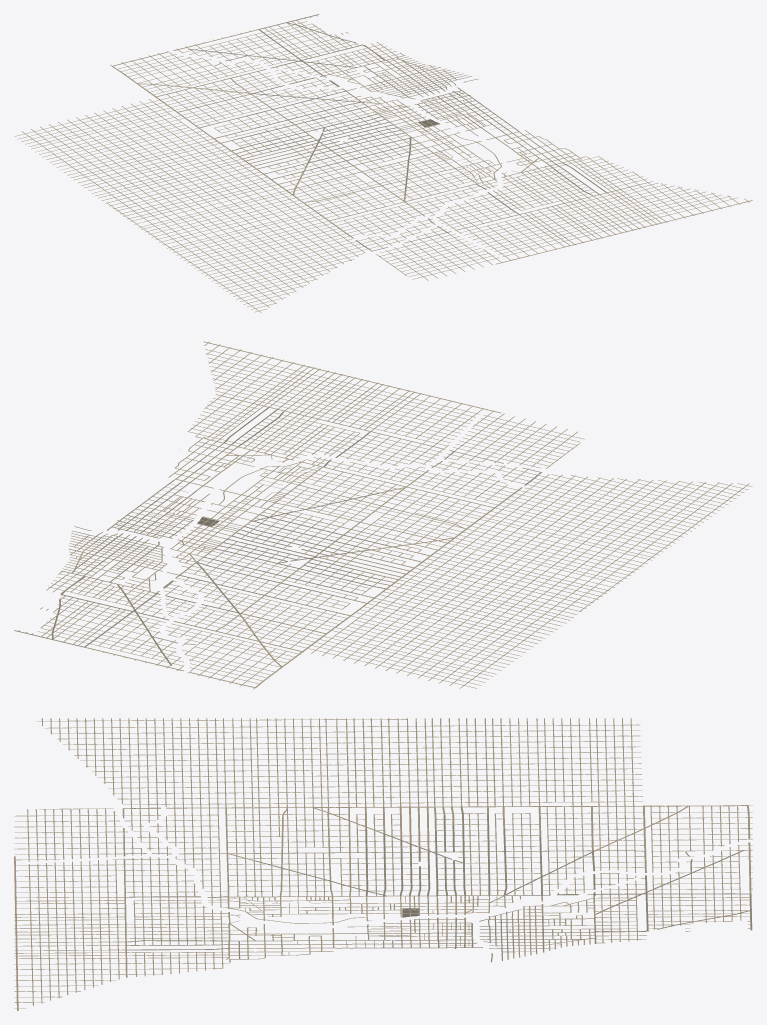
Rendered from streets.glb.
The picture shows the model from 3 angles, top to bottom: view 1: azimuth 30°, elevation 25°; view 2: azimuth 150°, elevation 25°; view 3: azimuth 270°, elevation 25°; orthographic projection. The views are drawn at different scales.
Bounding box in the file's own units: 10727 × 0.165 × 11447.
Materials: 5 (5 with a texture image).
